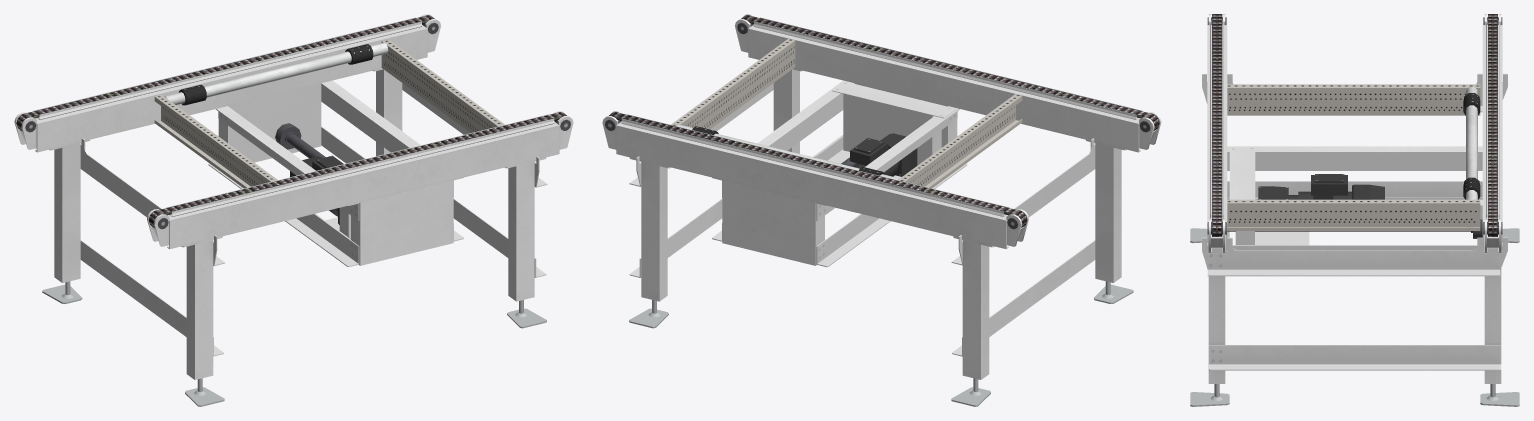
The model's file is YZJ.glb.
The picture shows the model from 3 angles, left to right: view 1: azimuth 30°, elevation 25°; view 2: azimuth 150°, elevation 25°; view 3: azimuth 270°, elevation 25°; orthographic projection. The views are drawn at different scales.
Visible parts, largest first — view 1: ZT.2, Ban.4, GT.3; view 2: ZT.2, Ban.4, GT.3; view 3: ZT.2, Ban.4, GT.3.
Part boxes in pixels (x1=…): ZT.2: x1=14, y1=14, x2=573, y2=406; Ban.4: x1=154, y1=39, x2=504, y2=188; GT.3: x1=164, y1=42, x2=388, y2=105; ZT.2: x1=602, y1=14, x2=1161, y2=406; Ban.4: x1=671, y1=38, x2=1022, y2=188; GT.3: x1=677, y1=124, x2=898, y2=179; ZT.2: x1=1190, y1=14, x2=1519, y2=406; Ban.4: x1=1227, y1=84, x2=1480, y2=230; GT.3: x1=1463, y1=87, x2=1480, y2=199.
Bounding box in the file's own units: 183 × 80.29 × 119.
3 materials, 3 textured.
